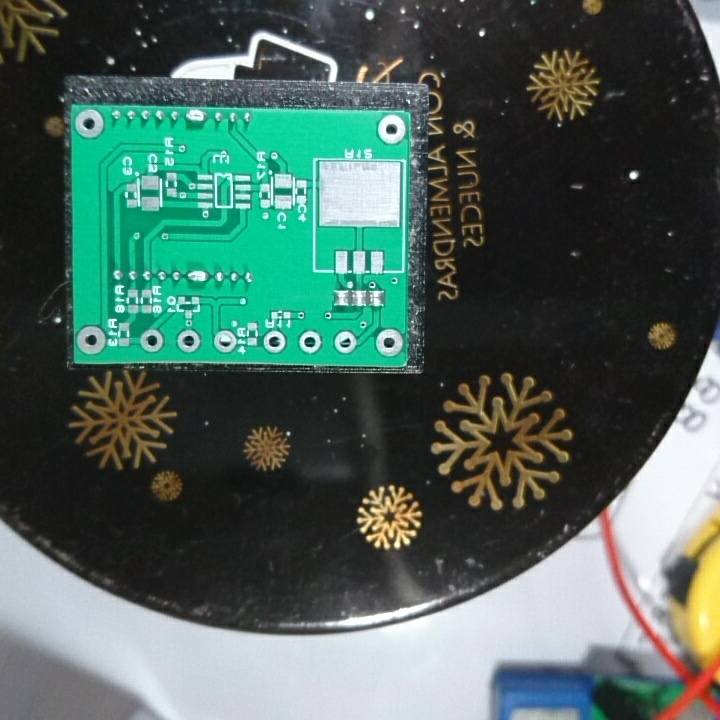F: (376, 110, 407, 151), (74, 106, 107, 141), (76, 324, 106, 358), (173, 326, 207, 355), (330, 327, 360, 357), (374, 329, 405, 358), (210, 327, 237, 357), (261, 327, 289, 355), (138, 326, 165, 355), (297, 328, 323, 357)
P: (181, 106, 207, 128), (183, 266, 210, 285)
